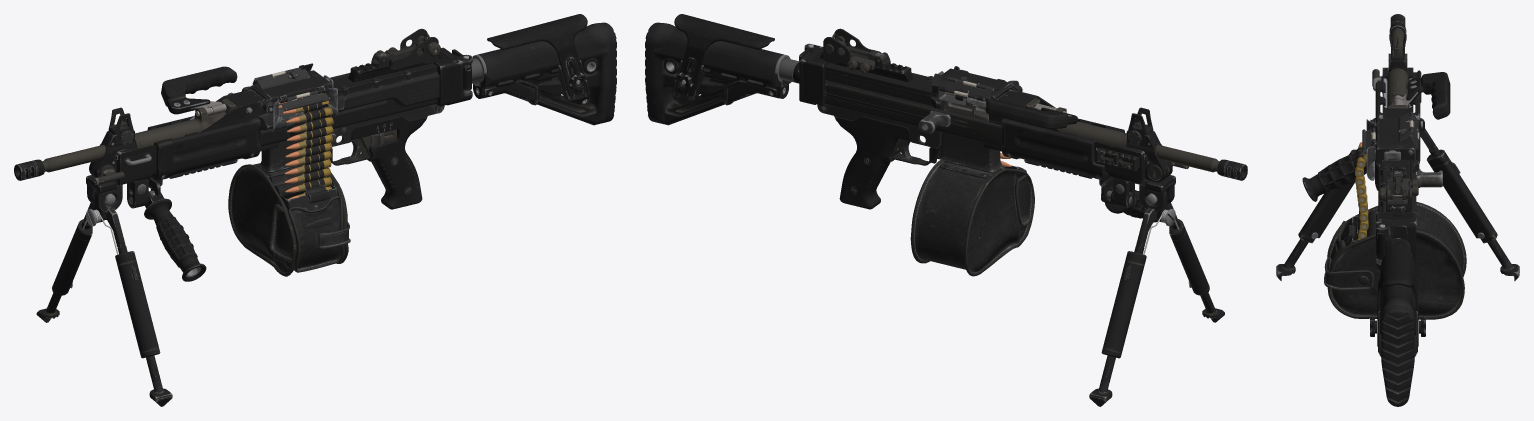
The model's file is negev_ng7.obj.
3 views of the same model, side by side, from view 1: azimuth 30°, elevation 25°; view 2: azimuth 150°, elevation 25°; view 3: azimuth 270°, elevation 25° (orthographic).
Parts seen in each view (by area): view 1: Object_125_other\stock.smd_wpn_p17_lm_ngolf7_stock_v0_0, Object_108_other\SAKINMG38.smd_wpn_p17_lm_ngolf7_upper_v0_0, Object_118_other\mag.smd_wpn_p17_lm_ngolf7_ammobox_762n_v0_part_, Object_102_other\SAKINMG38.smd_wpn_p17_lm_ngolf7_barrel_v0_0, Object_110_other\bipod.smd_wpn_p17_lm_ngolf7_bipod_v0_0, Object_107_other\SAKINMG38.smd_wpn_p17_lm_ngolf7_lower_v0_0, Object_105_other\SAKINMG38.smd_wpn_p17_lm_ngolf7_pstlgrip_v0_0, Object_106_other\SAKINMG38.smd_wpn_p17_lm_ngolf7_cover_v0_0, Object_116_other\grip.smd_wpn_p17_lm_ngolf7_sidegrip_v0_0, Object_114_other\carryhandle.smd_wpn_p17_lm_ngolf7_lower_v0_0, Object_112_other\bullets.smd_att_ammo_762n_0, Object_121_other\mag_link.smd_att_ammo_762n_link_0 (+3 smaller); view 2: Object_125_other\stock.smd_wpn_p17_lm_ngolf7_stock_v0_0, Object_118_other\mag.smd_wpn_p17_lm_ngolf7_ammobox_762n_v0_part_, Object_108_other\SAKINMG38.smd_wpn_p17_lm_ngolf7_upper_v0_0, Object_102_other\SAKINMG38.smd_wpn_p17_lm_ngolf7_barrel_v0_0, Object_110_other\bipod.smd_wpn_p17_lm_ngolf7_bipod_v0_0, Object_107_other\SAKINMG38.smd_wpn_p17_lm_ngolf7_lower_v0_0, Object_105_other\SAKINMG38.smd_wpn_p17_lm_ngolf7_pstlgrip_v0_0, Object_106_other\SAKINMG38.smd_wpn_p17_lm_ngolf7_cover_v0_0, Object_123_other\sight_stock.smd_wpn_p17_lm_ngolf7_sights_v0_0, Object_114_other\carryhandle.smd_wpn_p17_lm_ngolf7_lower_v0_0, Object_116_other\grip.smd_wpn_p17_lm_ngolf7_sidegrip_v0_0, Object_101_other\SAKINMG38.smd_wpn_p17_lm_ngolf7_sights_v0_0; view 3: Object_118_other\mag.smd_wpn_p17_lm_ngolf7_ammobox_762n_v0_part_, Object_125_other\stock.smd_wpn_p17_lm_ngolf7_stock_v0_0, Object_110_other\bipod.smd_wpn_p17_lm_ngolf7_bipod_v0_0, Object_106_other\SAKINMG38.smd_wpn_p17_lm_ngolf7_cover_v0_0, Object_108_other\SAKINMG38.smd_wpn_p17_lm_ngolf7_upper_v0_0, Object_102_other\SAKINMG38.smd_wpn_p17_lm_ngolf7_barrel_v0_0, Object_107_other\SAKINMG38.smd_wpn_p17_lm_ngolf7_lower_v0_0, Object_114_other\carryhandle.smd_wpn_p17_lm_ngolf7_lower_v0_0, Object_116_other\grip.smd_wpn_p17_lm_ngolf7_sidegrip_v0_0, Object_123_other\sight_stock.smd_wpn_p17_lm_ngolf7_sights_v0_0, Object_112_other\bullets.smd_att_ammo_762n_0, Object_119_other\mag.smd_wpn_p17_lm_ngolf7_ammobox_762n_v0_0 (+2 smaller).
Boxes of the visible parts, x1,y1,x2,y2 form: Object_125_other\stock.smd_wpn_p17_lm_ngolf7_stock_v0_0: [463, 14, 616, 125]; Object_108_other\SAKINMG38.smd_wpn_p17_lm_ngolf7_upper_v0_0: [86, 53, 441, 212]; Object_118_other\mag.smd_wpn_p17_lm_ngolf7_ammobox_762n_v0_part_: [228, 163, 350, 276]; Object_102_other\SAKINMG38.smd_wpn_p17_lm_ngolf7_barrel_v0_0: [42, 98, 260, 184]; Object_110_other\bipod.smd_wpn_p17_lm_ngolf7_bipod_v0_0: [36, 191, 172, 406]; Object_107_other\SAKINMG38.smd_wpn_p17_lm_ngolf7_lower_v0_0: [259, 47, 472, 171]; Object_105_other\SAKINMG38.smd_wpn_p17_lm_ngolf7_pstlgrip_v0_0: [351, 115, 427, 209]; Object_106_other\SAKINMG38.smd_wpn_p17_lm_ngolf7_cover_v0_0: [241, 63, 337, 131]; Object_116_other\grip.smd_wpn_p17_lm_ngolf7_sidegrip_v0_0: [127, 178, 206, 281]; Object_114_other\carryhandle.smd_wpn_p17_lm_ngolf7_lower_v0_0: [161, 66, 237, 115]; Object_112_other\bullets.smd_att_ammo_762n_0: [278, 93, 333, 199]; Object_121_other\mag_link.smd_att_ammo_762n_link_0: [297, 96, 330, 203]; Object_125_other\stock.smd_wpn_p17_lm_ngolf7_stock_v0_0: [645, 14, 799, 125]; Object_118_other\mag.smd_wpn_p17_lm_ngolf7_ammobox_762n_v0_part_: [910, 159, 1034, 276]; Object_108_other\SAKINMG38.smd_wpn_p17_lm_ngolf7_upper_v0_0: [820, 52, 1175, 212]; Object_102_other\SAKINMG38.smd_wpn_p17_lm_ngolf7_barrel_v0_0: [1001, 98, 1219, 182]; Object_110_other\bipod.smd_wpn_p17_lm_ngolf7_bipod_v0_0: [1089, 190, 1224, 406]; Object_107_other\SAKINMG38.smd_wpn_p17_lm_ngolf7_lower_v0_0: [799, 43, 1002, 171]; Object_105_other\SAKINMG38.smd_wpn_p17_lm_ngolf7_pstlgrip_v0_0: [834, 115, 910, 209]; Object_106_other\SAKINMG38.smd_wpn_p17_lm_ngolf7_cover_v0_0: [932, 66, 1022, 110]; Object_123_other\sight_stock.smd_wpn_p17_lm_ngolf7_sights_v0_0: [823, 28, 890, 73]; Object_114_other\carryhandle.smd_wpn_p17_lm_ngolf7_lower_v0_0: [985, 98, 1077, 129]; Object_116_other\grip.smd_wpn_p17_lm_ngolf7_sidegrip_v0_0: [1101, 178, 1157, 222]; Object_101_other\SAKINMG38.smd_wpn_p17_lm_ngolf7_sights_v0_0: [1127, 107, 1153, 144]; Object_118_other\mag.smd_wpn_p17_lm_ngolf7_ammobox_762n_v0_part_: [1324, 202, 1466, 319]; Object_125_other\stock.smd_wpn_p17_lm_ngolf7_stock_v0_0: [1370, 233, 1425, 406]; Object_110_other\bipod.smd_wpn_p17_lm_ngolf7_bipod_v0_0: [1276, 128, 1519, 281]; Object_106_other\SAKINMG38.smd_wpn_p17_lm_ngolf7_cover_v0_0: [1362, 112, 1420, 180]; Object_108_other\SAKINMG38.smd_wpn_p17_lm_ngolf7_upper_v0_0: [1372, 67, 1424, 216]; Object_102_other\SAKINMG38.smd_wpn_p17_lm_ngolf7_barrel_v0_0: [1372, 28, 1421, 164]; Object_107_other\SAKINMG38.smd_wpn_p17_lm_ngolf7_lower_v0_0: [1376, 168, 1442, 269]; Object_114_other\carryhandle.smd_wpn_p17_lm_ngolf7_lower_v0_0: [1394, 72, 1450, 119]; Object_116_other\grip.smd_wpn_p17_lm_ngolf7_sidegrip_v0_0: [1302, 152, 1366, 201]; Object_123_other\sight_stock.smd_wpn_p17_lm_ngolf7_sights_v0_0: [1378, 170, 1418, 211]; Object_112_other\bullets.smd_att_ammo_762n_0: [1355, 134, 1375, 240]; Object_119_other\mag.smd_wpn_p17_lm_ngolf7_ammobox_762n_v0_0: [1341, 205, 1416, 246].
Bounding box in the file's own units: 9.83 × 4.01 × 3.45.
